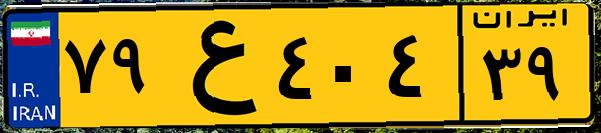0: (330, 28, 385, 110)
3: (475, 38, 525, 113)
4: (270, 28, 330, 110), (385, 28, 445, 110)
7: (57, 26, 110, 100)
9: (525, 38, 570, 115), (110, 28, 158, 98)
ع: (158, 12, 270, 120)
